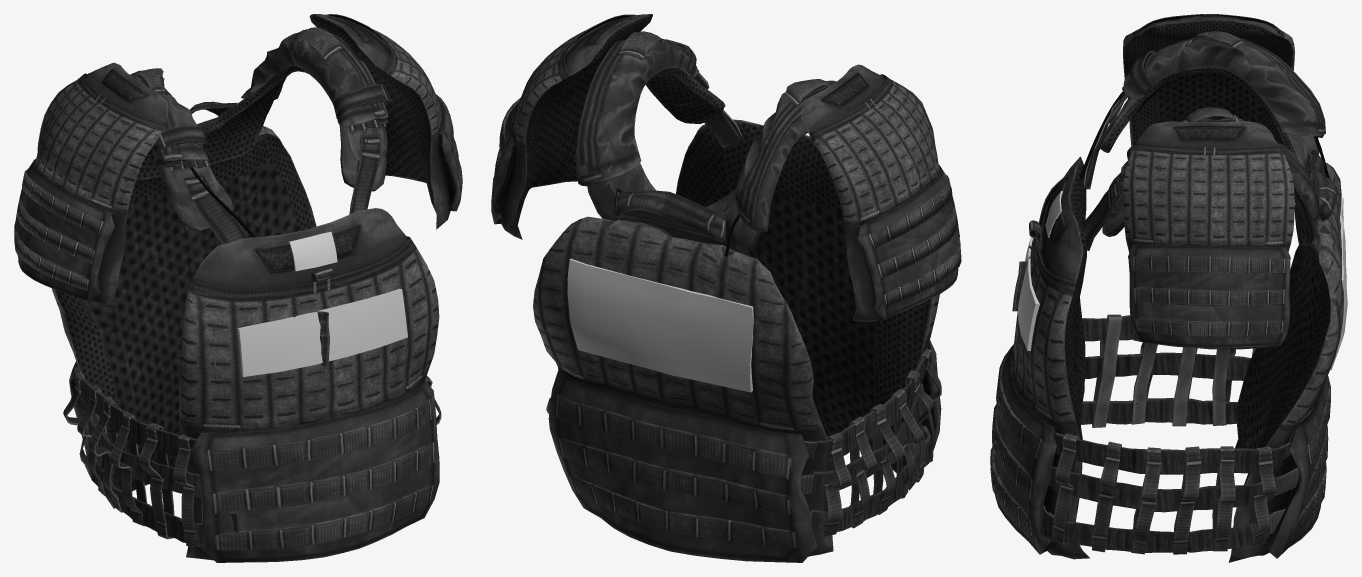
Rendered from RiotGear.fbx.
3 renders of one model, left to right at view 1: azimuth 30°, elevation 25°; view 2: azimuth 150°, elevation 25°; view 3: azimuth 270°, elevation 25°, orthographic. The views are drawn at different scales.
Parts seen in each view (by area): view 1: RiotGear; view 2: RiotGear; view 3: RiotGear.
Part boxes in pixels (x1=…): RiotGear: x1=14, y1=14, x2=462, y2=562; RiotGear: x1=491, y1=14, x2=961, y2=562; RiotGear: x1=990, y1=14, x2=1347, y2=562.
Bounding box in the file's own units: 0.5235 × 0.5232 × 0.3782.
